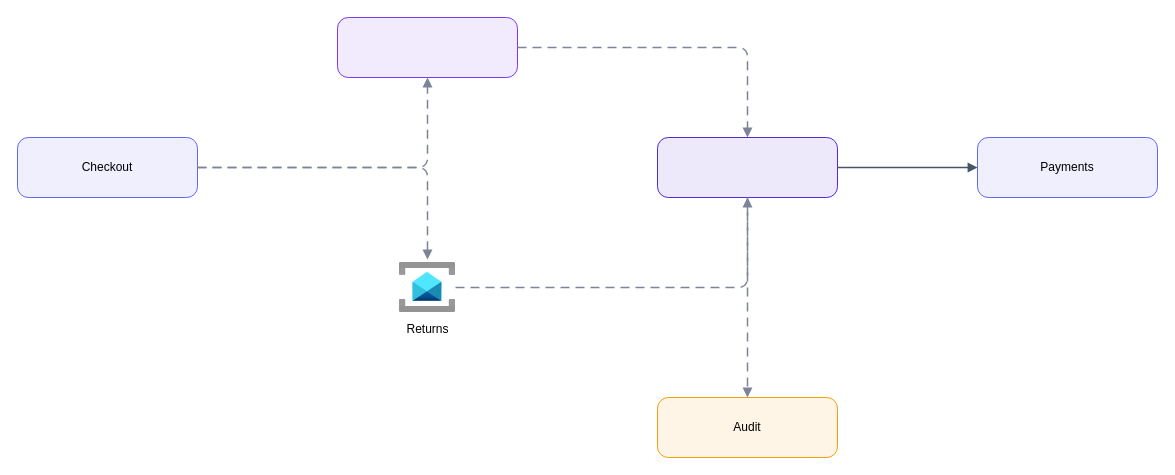
The diagram is 1175 pixels wide and 475 high, and some of its shapes have lost their labels. Each missing label, with the box of its shape:
Order events: (336, 16, 518, 78)
Orders: (656, 136, 838, 198)
